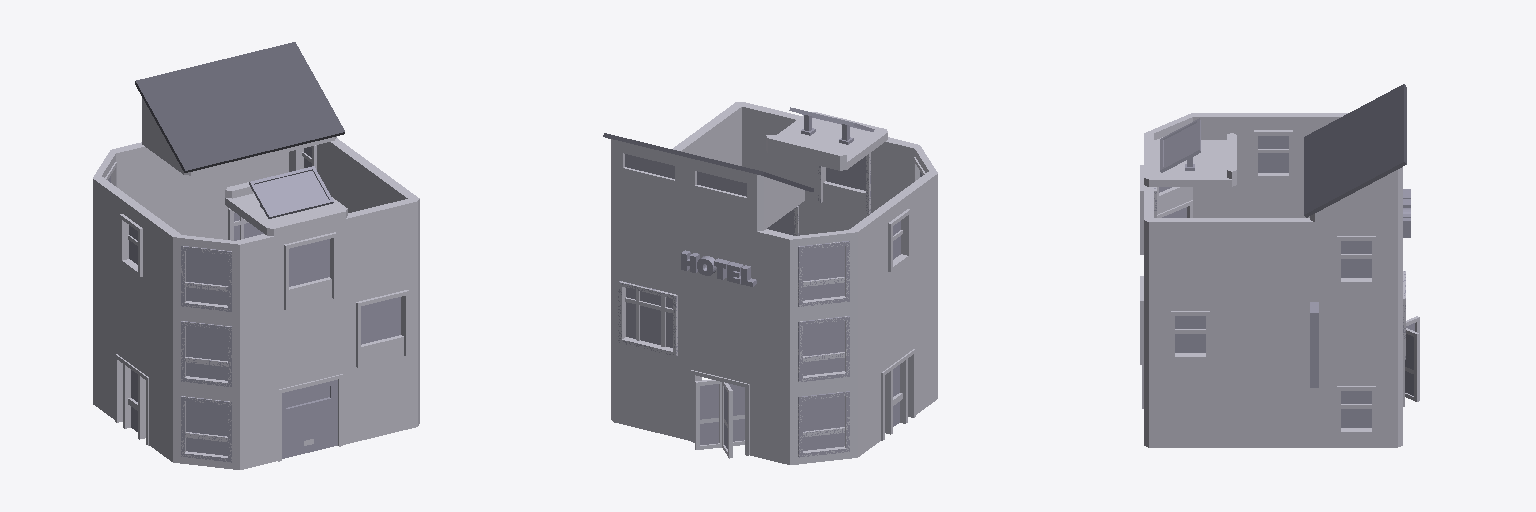
The model's file is building2.obj.
3 views of the same model, side by side, from view 1: azimuth 30°, elevation 25°; view 2: azimuth 150°, elevation 25°; view 3: azimuth 270°, elevation 25° (orthographic).
Bounding box in the file's own units: 3.6 × 3.83 × 3.37.